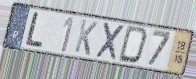1: (60, 16, 76, 54)
7: (146, 28, 174, 68)
D: (116, 25, 149, 66)
K: (73, 18, 100, 58)
L: (24, 11, 45, 50)
X: (94, 21, 126, 63)
